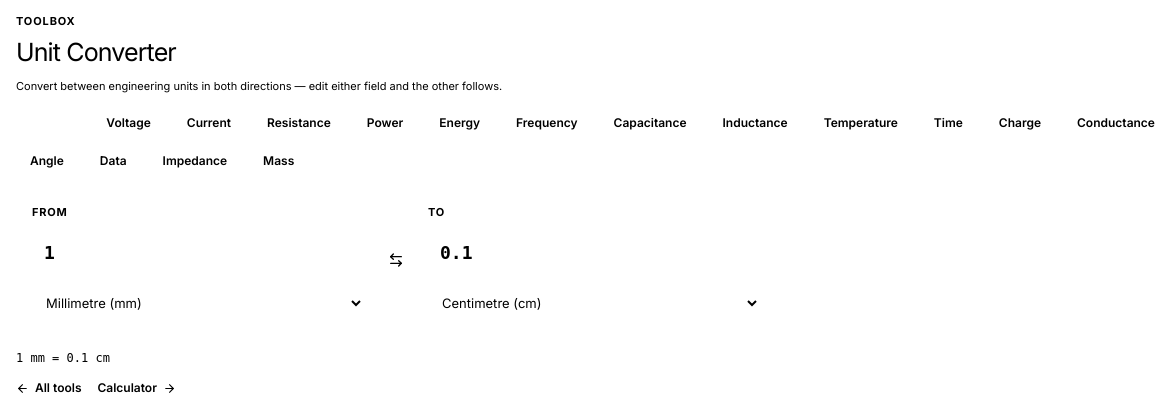
Test case: UnitConverterPage UI › converts both directions
Click the tab "Voltage" at (129, 123), box [92, 108, 165, 138]
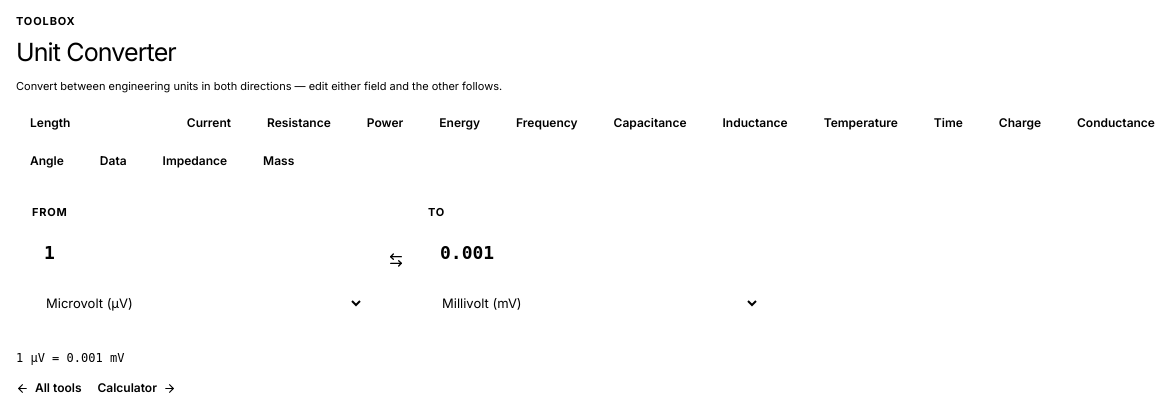
// Switch from µV → V for clearer numbers
Select "Volt (V)" in the dropdown named "From unit" at (198, 303), box [32, 285, 364, 321]
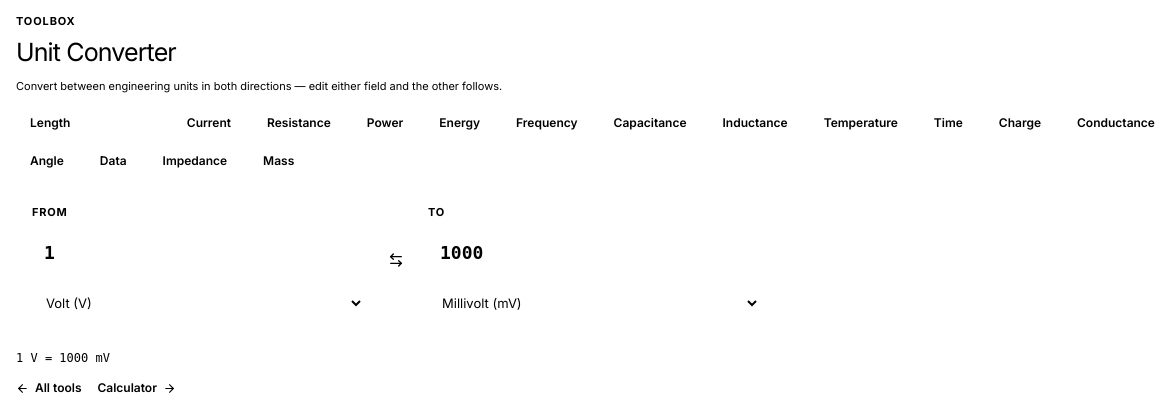
Select "Millivolt (mV)" in the dropdown named "To unit" at (594, 303), box [428, 285, 760, 321]
Replace the text in the field labelled "From" with "1.5" at (198, 253), box [32, 228, 364, 277]
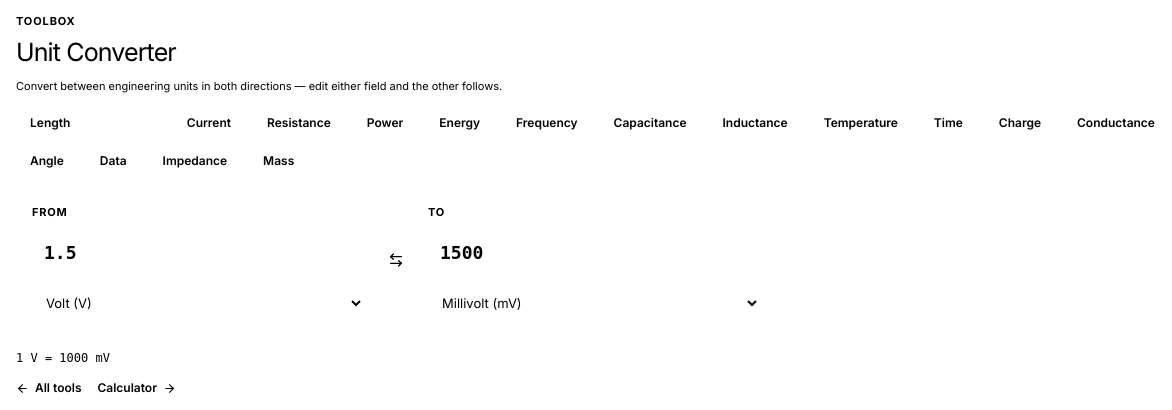
Now the field labelled "To" holds "1500"
Replace the text in the field labelled "To" with "2500" at (594, 253), box [428, 228, 760, 277]
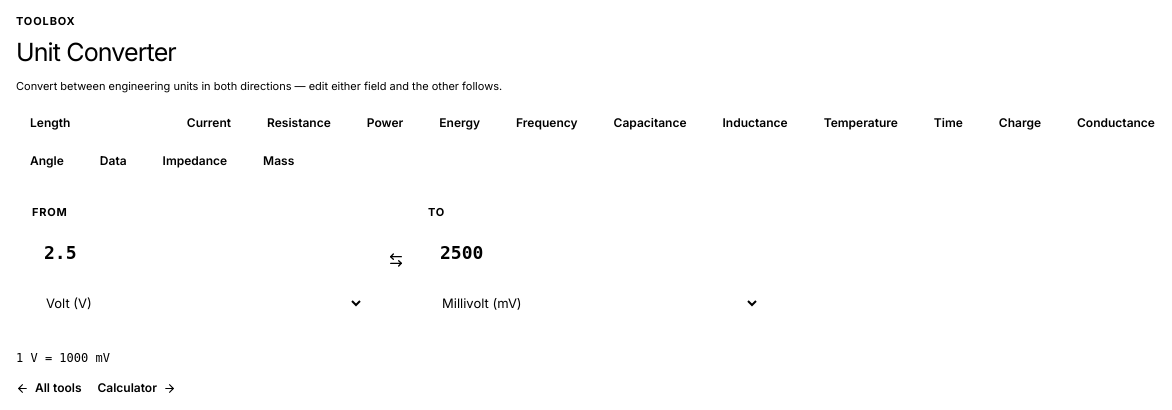
Now the field labelled "From" holds "2.5", box [32, 228, 364, 277]
